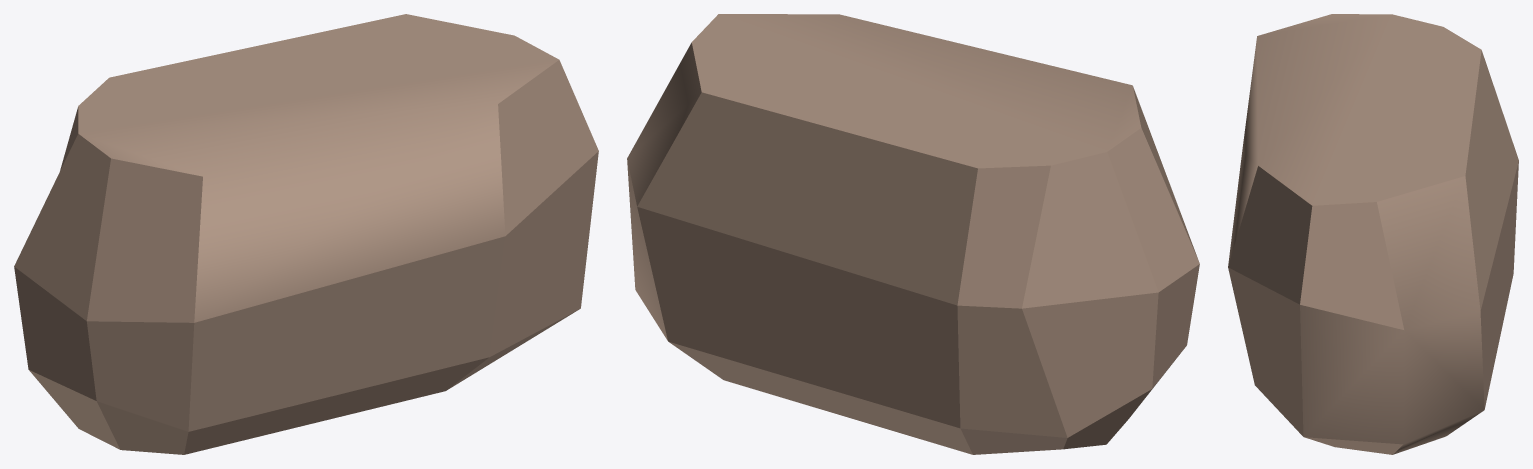
Rendered from Stackable_Rock_2_1_1_Colored.fbx.
3 renders of one model, left to right at view 1: azimuth 30°, elevation 25°; view 2: azimuth 150°, elevation 25°; view 3: azimuth 270°, elevation 25°, orthographic. The views are drawn at different scales.
Visible parts, largest first — view 1: Stockable_Rock_2_1_1; view 2: Stockable_Rock_2_1_1; view 3: Stockable_Rock_2_1_1.
Part boxes in pixels (x1=…): Stockable_Rock_2_1_1: x1=14, y1=14, x2=598, y2=454; Stockable_Rock_2_1_1: x1=627, y1=14, x2=1199, y2=454; Stockable_Rock_2_1_1: x1=1228, y1=14, x2=1518, y2=454.
Size of the model in its own units: 188 by 99.07 by 98.39.
